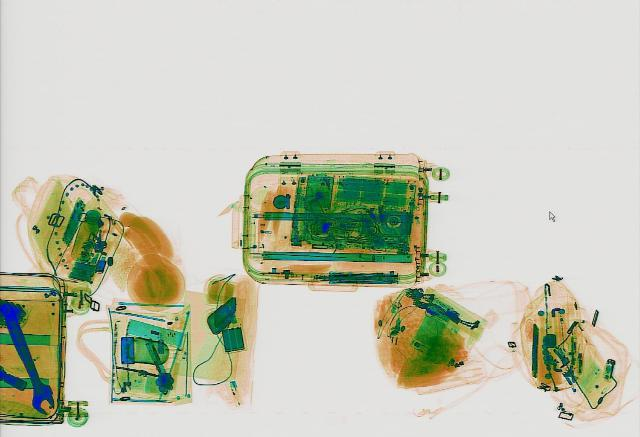Wrench: (0, 318, 59, 413)
